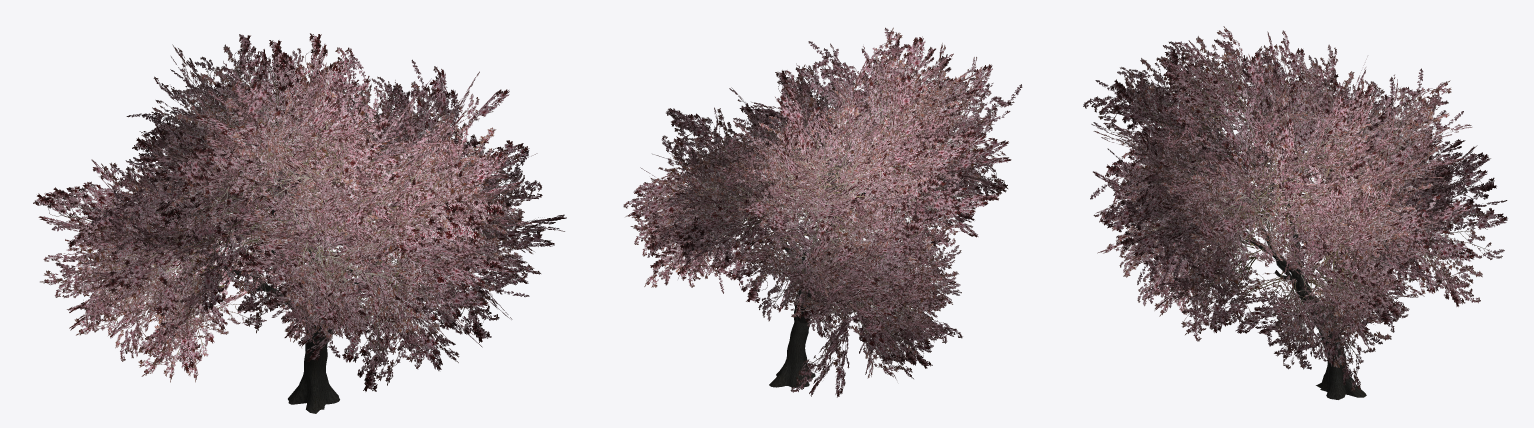
The model's file is sakura.glb.
3 views of the same model, side by side, from view 1: azimuth 30°, elevation 25°; view 2: azimuth 150°, elevation 25°; view 3: azimuth 270°, elevation 25° (orthographic). The views are drawn at different scales.
Parts seen in each view (by area): view 1: sakura; view 2: sakura; view 3: sakura.
Boxes of the visible parts, left/top/right/bottom form: sakura: left=33, top=33, right=566, bottom=413; sakura: left=623, top=27, right=1022, bottom=397; sakura: left=1083, top=26, right=1507, bottom=399.
Size of the model in its own units: 8.71 by 7.5 by 8.68.
1 material, 1 textured.
